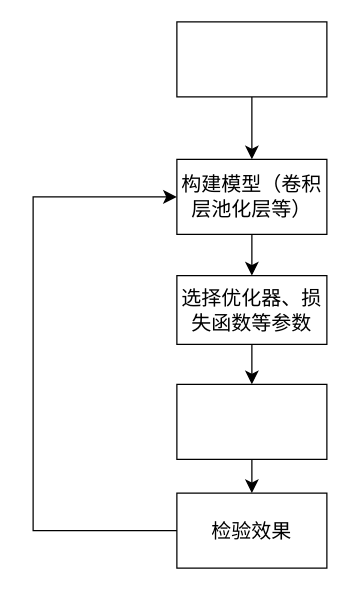
The diagram is 349 pixels wide and 590 high, and some of its shapes have lost their labels. The shapes that lost their labels are listed below. From the top down, each one's centre as x and y in pixels, then its label:
(251,59): 数据预处理
(251,421): 训练模型
